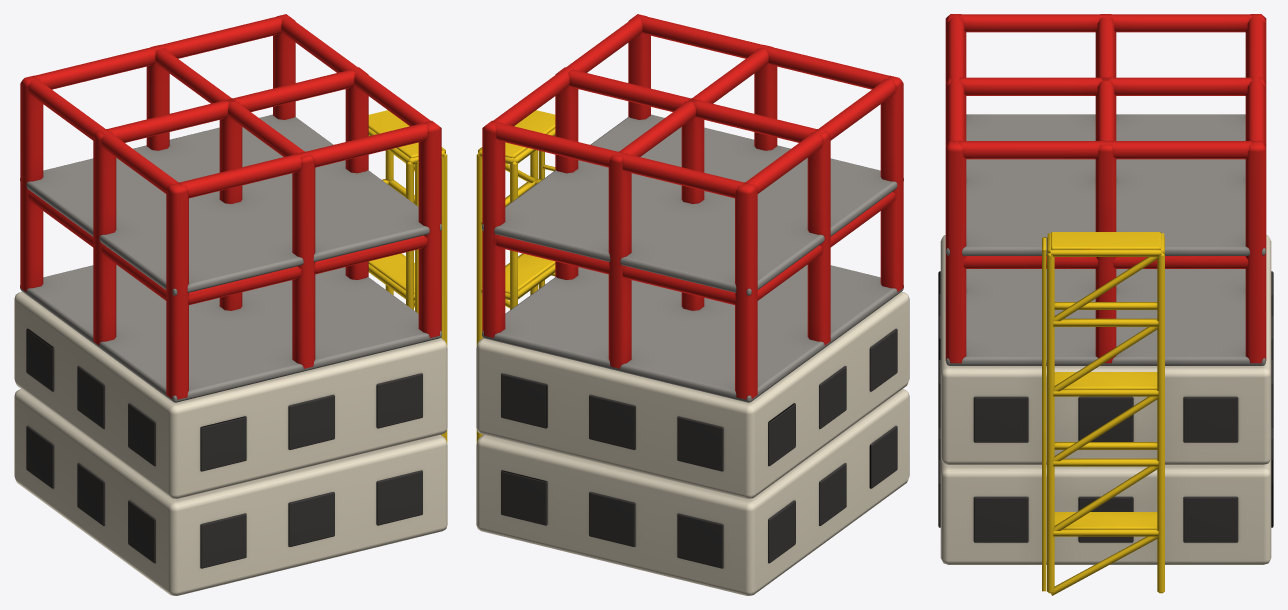
The model's file is site-building.fbx.
The picture shows the model from 3 angles, left to right: view 1: azimuth 30°, elevation 25°; view 2: azimuth 150°, elevation 25°; view 3: azimuth 270°, elevation 25°; orthographic projection. The views are drawn at different scales.
Visible parts, largest first — view 1: site-building; view 2: site-building; view 3: site-building.
Part boxes in pixels (box(x1,y1,x2,y2)): site-building: box(14, 14, 447, 595); site-building: box(476, 14, 909, 595); site-building: box(938, 14, 1273, 595).
Size of the model in its own units: 3600 by 4280 by 3078.
Materials: 1 (1 with a texture image).
